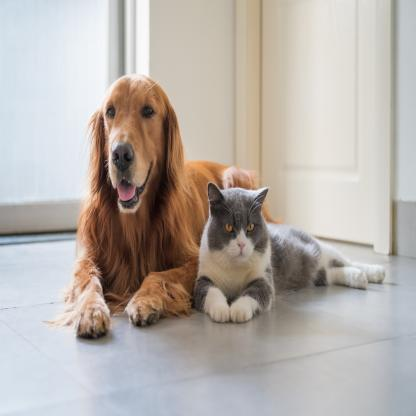cat: (200, 172, 289, 280)
dog: (80, 61, 197, 228)
